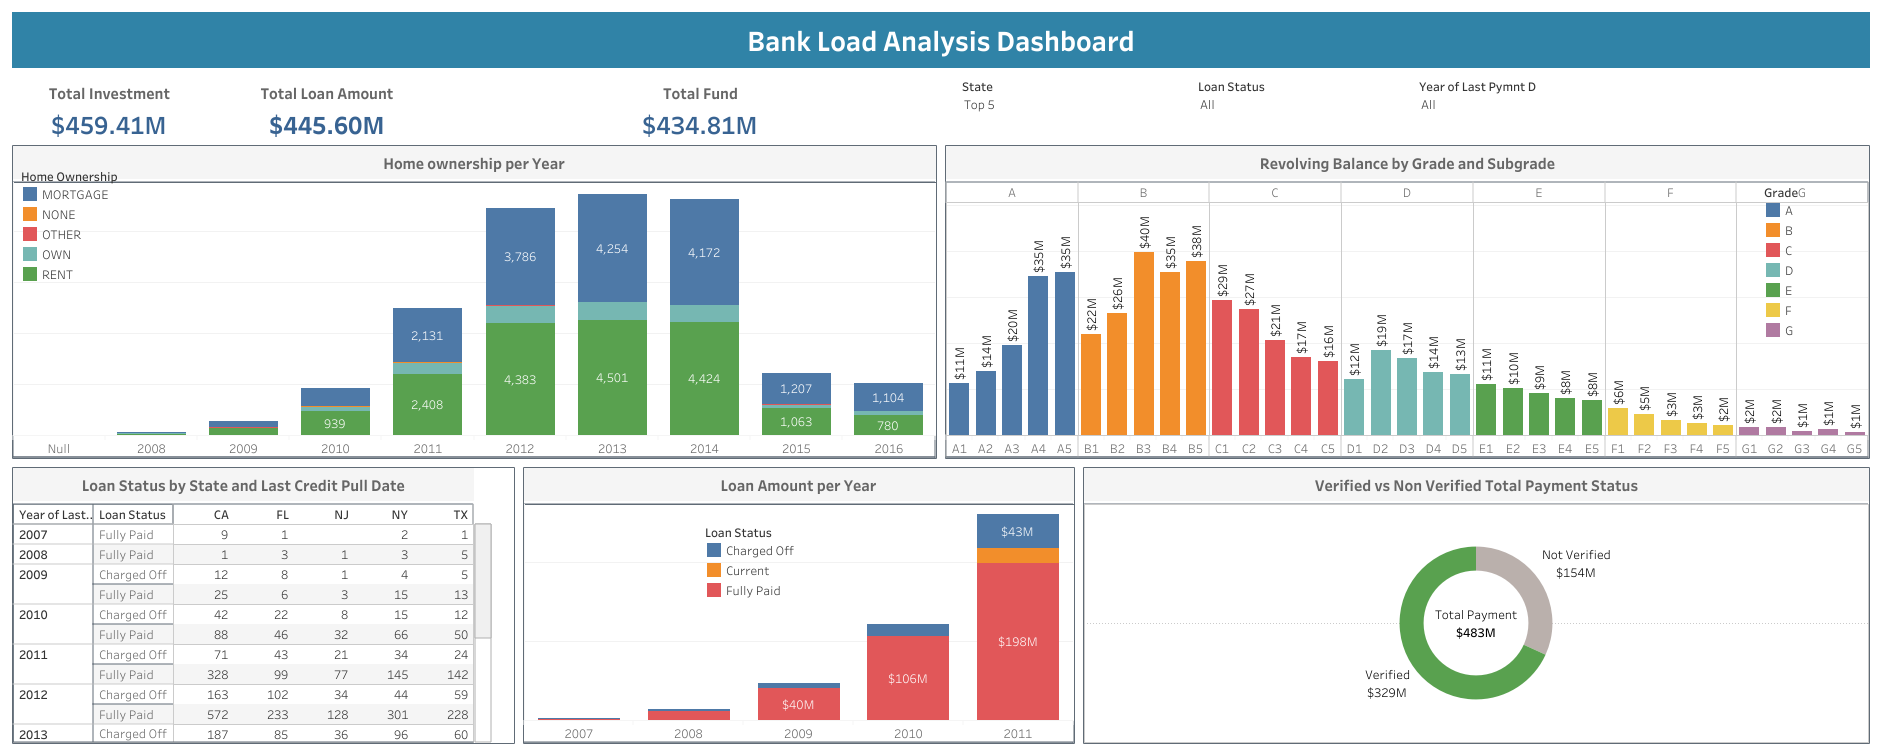

What the dashboard file says about the page in this screenshot:
{"tool":"tableau","page":{"name":"Dashboard","canvas":[1000,1000],"units":"permille","ordinal":0},"visuals":[{"type":"title","box":[5.7,12,988.7,95.8]},{"type":"worksheet","title":"Total Invest","mark":"Automatic","box":[5.7,107.8,143.6,103.3]},{"type":"worksheet","title":"Total Loan Amount","mark":"Automatic","box":[149.2,107.8,164.1,103.3]},{"type":"worksheet","title":"Total Fund","mark":"Automatic","box":[313.3,107.8,195.8,103.3]},{"type":"parameter","param":"[Parameters].[Parameter 1]","box":[509.2,107.8,166.9,103.3]},{"type":"filter","title":"KPI-1 (year)","param":"[federated.1noca4b07gowck0zot1m70xwudxz].[none:loan_status:nk]","box":[676.1,107.8,156.3,103.3]},{"type":"filter","title":"KPI-5","param":"[federated.1noca4b07gowck0zot1m70xwudxz].[yr:last_pymnt_d:ok]","box":[832.4,107.8,139.3,103.3]},{"type":"worksheet","title":"KPI-5","mark":"Bar","rows":["last_pymnt_d"],"cols":["last_pymnt_d"],"box":[5.7,211.1,494.3,411.9]},{"type":"worksheet","title":"KPI-2","mark":"Automatic","rows":["revol_bal"],"cols":["grade","sub_grade"],"box":[499.9,211.1,494.4,411.9]},{"type":"legend","title":"KPI-2","param":"[federated.1noca4b07gowck0zot1m70xwudxz].[none:grade:nk]","box":[931.2,294.9,50.7,242.5]},{"type":"legend","title":"KPI-5","param":"[federated.1noca4b07gowck0zot1m70xwudxz].[none:home_ownership:nk]","box":[12,302.4,99,176.7]},{"type":"worksheet","title":"KPI-4","mark":"Automatic","rows":["last_credit_pull_d","loan_status"],"cols":["addr_state"],"box":[5.7,623,361.4,365]},{"type":"worksheet","title":"KPI-1 (year)","mark":"Bar","rows":["loan_amnt"],"cols":["issue_d"],"box":[367.1,623,396,365]},{"type":"worksheet","title":"KPI-3","mark":"Pie","rows":["Calculation_2203386177491685376","Calculation_2203386177491685376"],"box":[763.1,623,231.2,365]},{"type":"legend","title":"KPI-1 (year)","param":"[federated.1noca4b07gowck0zot1m70xwudxz].[none:loan_status:nk]","box":[374.1,688.6,98.3,116.8]}]}

Visuals, with their boxes on the dashboard's canvas, which has no fixed pixel size, in thousandths of its width and height (x1, y1, x2, y2). These are canvas units, not pixel positions in the 1881x755 screenshot, which may show the page scaled, cropped or inside an application window:
title: <box>6,12,994,108</box>
"Total Invest" worksheet: <box>6,108,149,211</box>
"Total Loan Amount" worksheet: <box>149,108,313,211</box>
"Total Fund" worksheet: <box>313,108,509,211</box>
parameter: <box>509,108,676,211</box>
"KPI-1 (year)" filter: <box>676,108,832,211</box>
"KPI-5" filter: <box>832,108,972,211</box>
"KPI-5" worksheet (Bar marks): <box>6,211,500,623</box>
"KPI-2" worksheet: <box>500,211,994,623</box>
"KPI-2" legend: <box>931,295,982,537</box>
"KPI-5" legend: <box>12,302,111,479</box>
"KPI-4" worksheet: <box>6,623,367,988</box>
"KPI-1 (year)" worksheet (Bar marks): <box>367,623,763,988</box>
"KPI-3" worksheet (Pie marks): <box>763,623,994,988</box>
"KPI-1 (year)" legend: <box>374,689,472,805</box>
